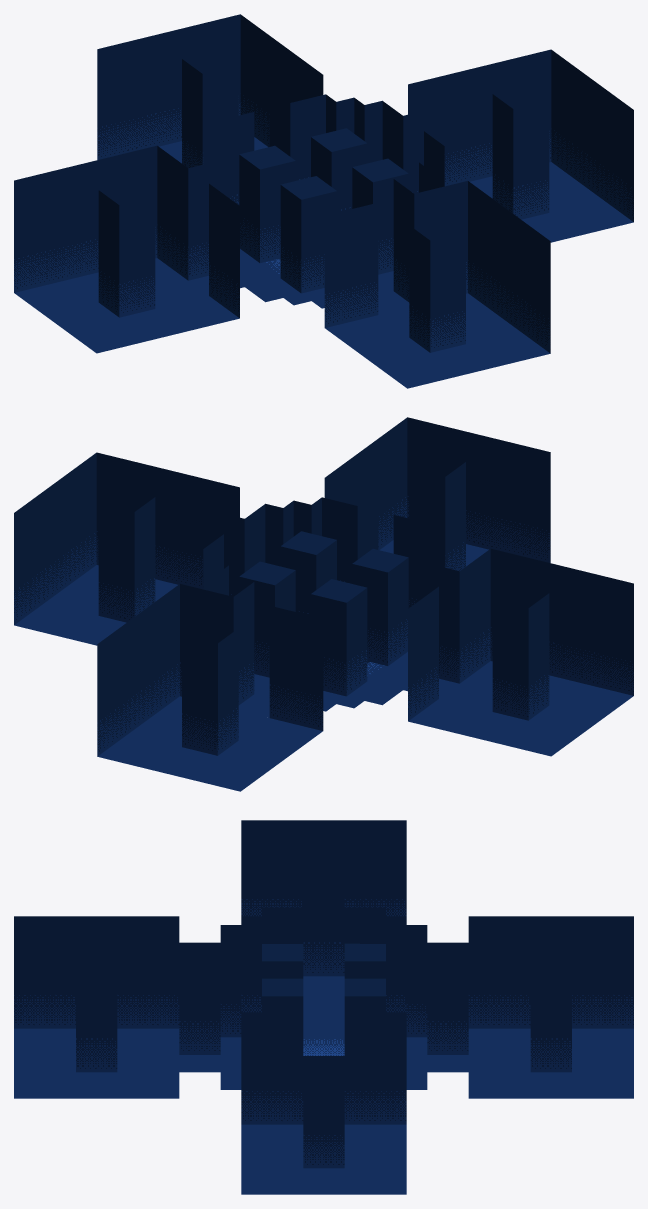
The model's file is map_2_no_roof.gltf.
3 renders of one model, top to bottom at view 1: azimuth 30°, elevation 25°; view 2: azimuth 150°, elevation 25°; view 3: azimuth 270°, elevation 25°, orthographic.
Parts seen in each view (by area): view 1: default; view 2: default; view 3: default.
Boxes of the visible parts, left/top/right/bottom form: default: left=14, top=14, right=633, bottom=388; default: left=14, top=417, right=633, bottom=791; default: left=14, top=820, right=633, bottom=1194.
Size of the model in its own units: 30 by 6.5 by 30.
1 material, 1 textured.
